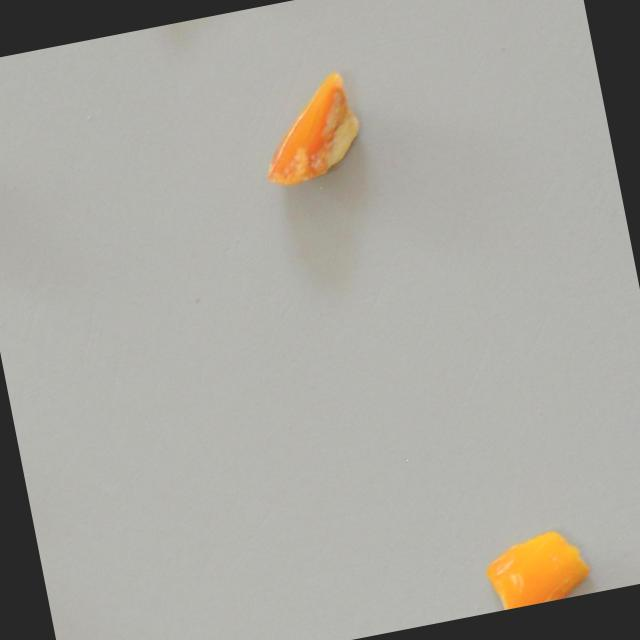dañado: (243, 63, 375, 195), (479, 520, 598, 612)
